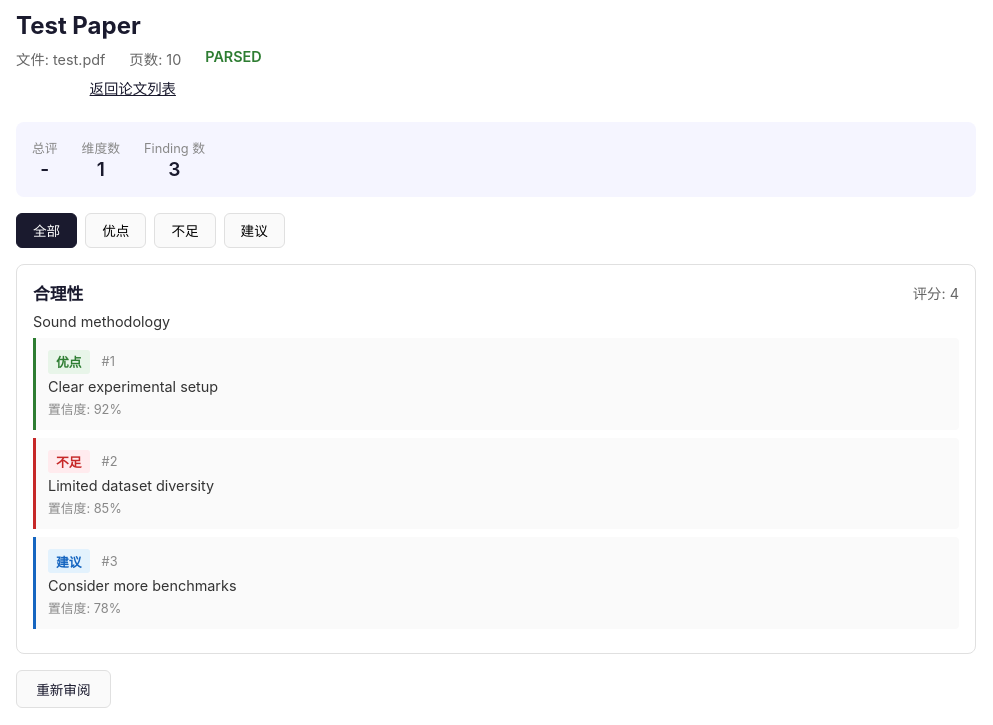
Test case: ReviewResultView › finding type filter works correctly
Expected: the number of elements with class "finding-card" is 3, [33,338,959,430]; [33,438,959,529]; [33,537,959,629]
Click the button with class "filter-btn" showing "优点". click: (116, 230)
box: [85,213,146,248]
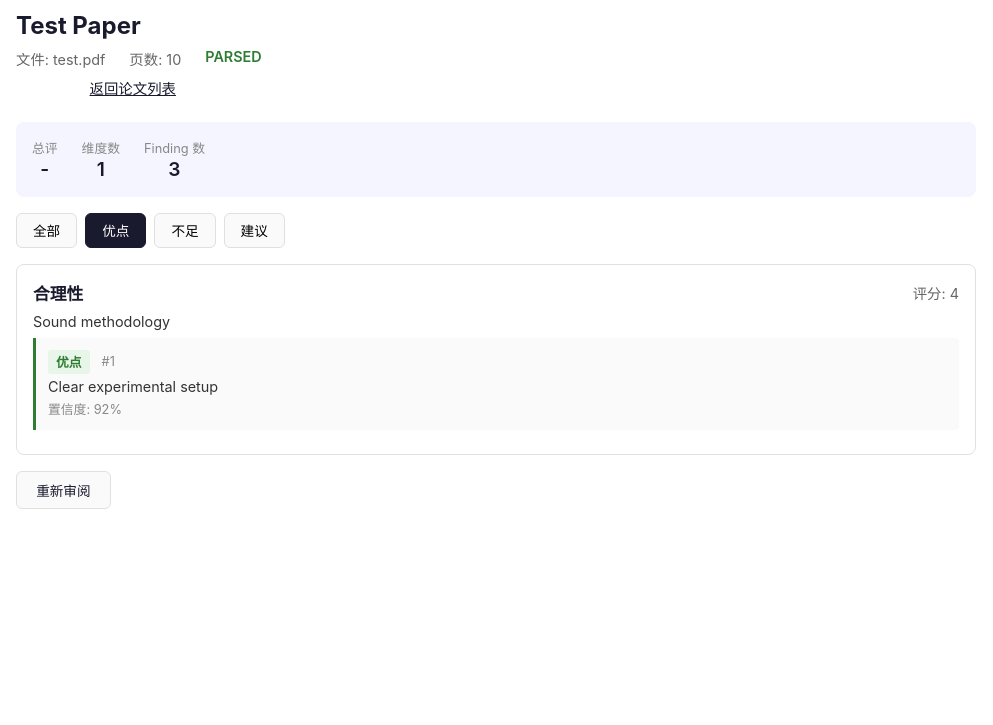
Expected: the element with class "finding-card" shows "Clear experimental setup", [48,378,218,395]
Now the number of elements with class "finding-card" is 1, box [33,338,959,430]
